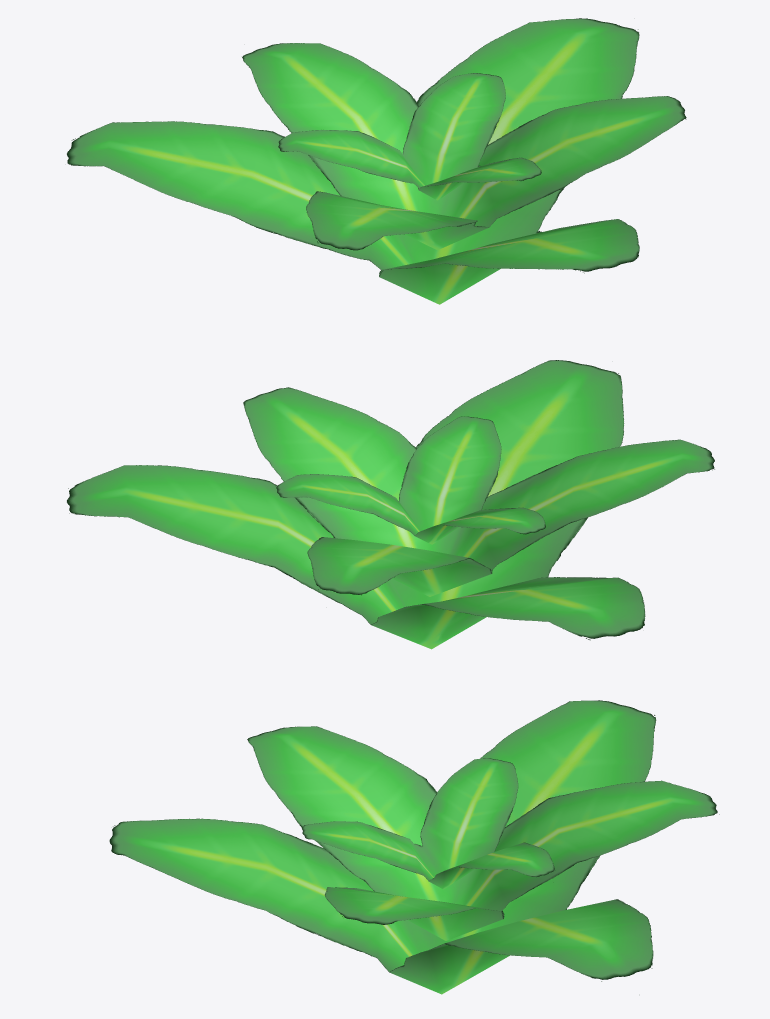
File: Plantes.fbx
3 views of the same model, one above another, from view 1: azimuth 30°, elevation 25°; view 2: azimuth 150°, elevation 25°; view 3: azimuth 270°, elevation 25° (orthographic).
Visible parts, largest first — view 1: Line001, Object001, Object002; view 2: Line001, Object001, Object002; view 3: Line001, Object001, Object002.
Boxes of the visible parts, x1,y1,x2,y2 form: Line001: [67, 18, 639, 304]; Object001: [242, 43, 686, 250]; Object002: [278, 73, 541, 200]; Line001: [67, 360, 645, 649]; Object001: [243, 387, 714, 596]; Object002: [276, 416, 545, 544]; Line001: [109, 700, 656, 994]; Object001: [247, 726, 719, 940]; Object002: [302, 758, 554, 889].
Bounding box in the file's own units: 36.15 × 9.67 × 37.17.
